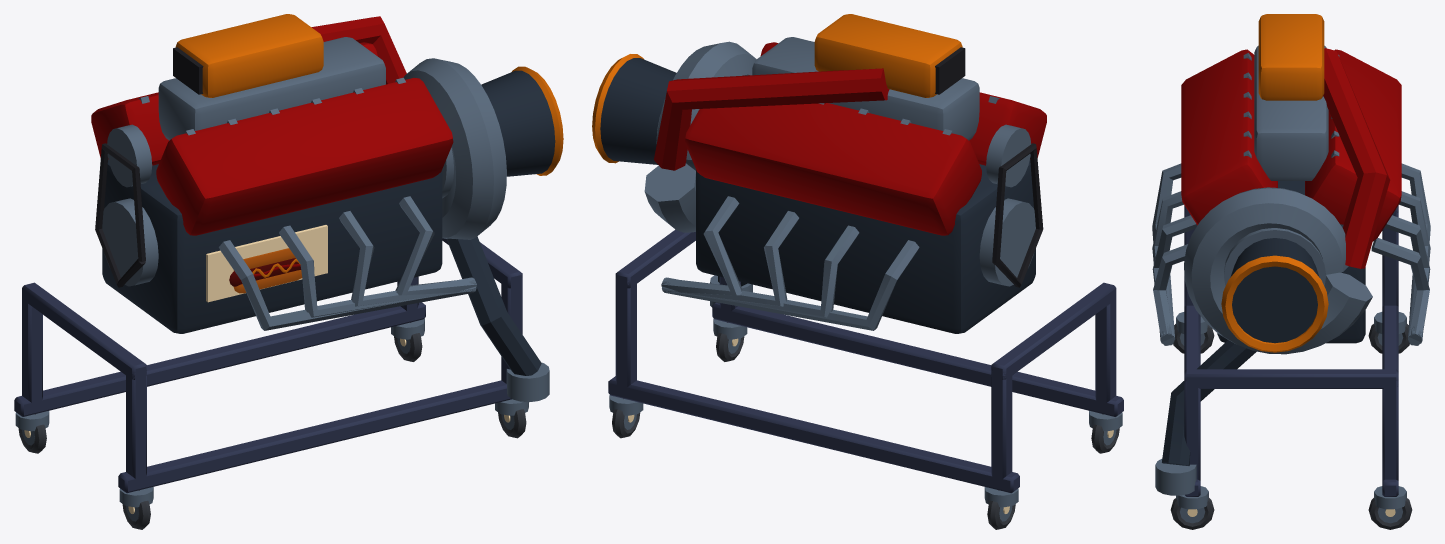
The model's file is TurboEngine.obj.
3 renders of one model, left to right at view 1: azimuth 30°, elevation 25°; view 2: azimuth 150°, elevation 25°; view 3: azimuth 270°, elevation 25°, orthographic. The views are drawn at different scales.
Parts seen in each view (by area): view 1: TurboEngine; view 2: TurboEngine; view 3: TurboEngine.
Part boxes in pixels (x1,y1,x2,y2): TurboEngine: [14, 14, 563, 529]; TurboEngine: [592, 14, 1123, 529]; TurboEngine: [1152, 14, 1430, 529].
Size of the model in its own units: 6.12 by 5.27 by 3.38.
